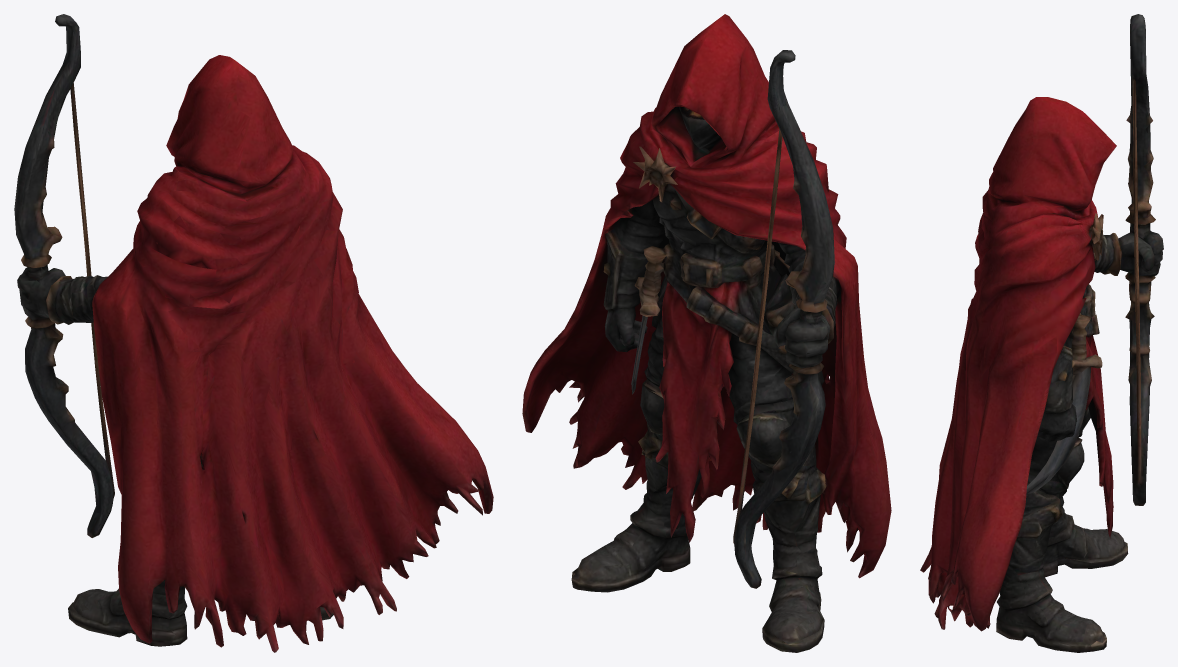
The model's file is horde-archers.glb.
3 views of the same model, side by side, from view 1: azimuth 30°, elevation 25°; view 2: azimuth 150°, elevation 25°; view 3: azimuth 270°, elevation 25° (orthographic). The views are drawn at different scales.
Parts seen in each view (by area): view 1: chaos-archers; view 2: chaos-archers; view 3: chaos-archers.
Part boxes in pixels (bbox=[...]): chaos-archers: bbox=[14, 14, 493, 652]; chaos-archers: bbox=[522, 14, 891, 652]; chaos-archers: bbox=[920, 14, 1163, 652].
Size of the model in its own units: 0.3413 by 0.5001 by 0.2067.
1 material, 1 textured.
